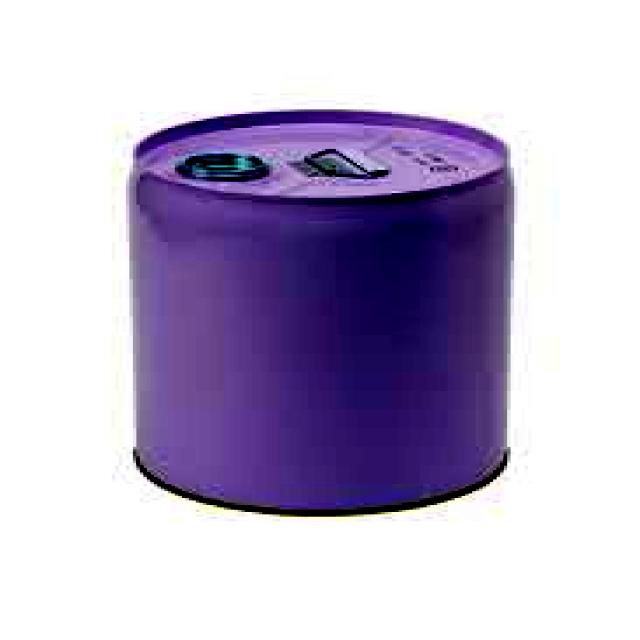Metal: (127, 106, 518, 518)
